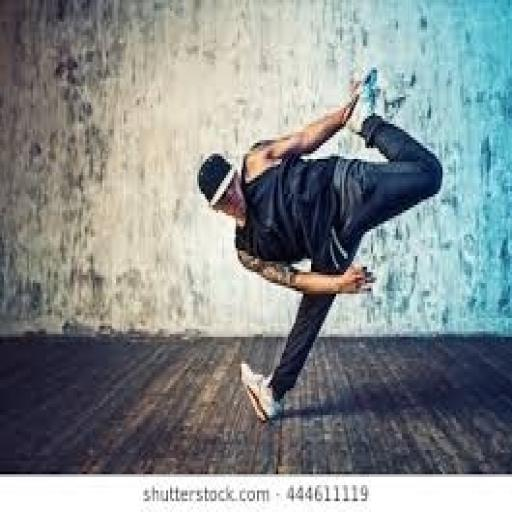dancing: (196, 64, 444, 426)
